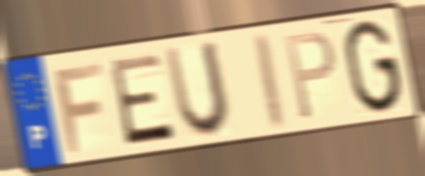E: (106, 50, 178, 149)
F: (51, 59, 106, 157)
G: (342, 17, 405, 117)
I: (254, 30, 290, 134)
P: (283, 28, 338, 124)
U: (162, 37, 234, 141)
